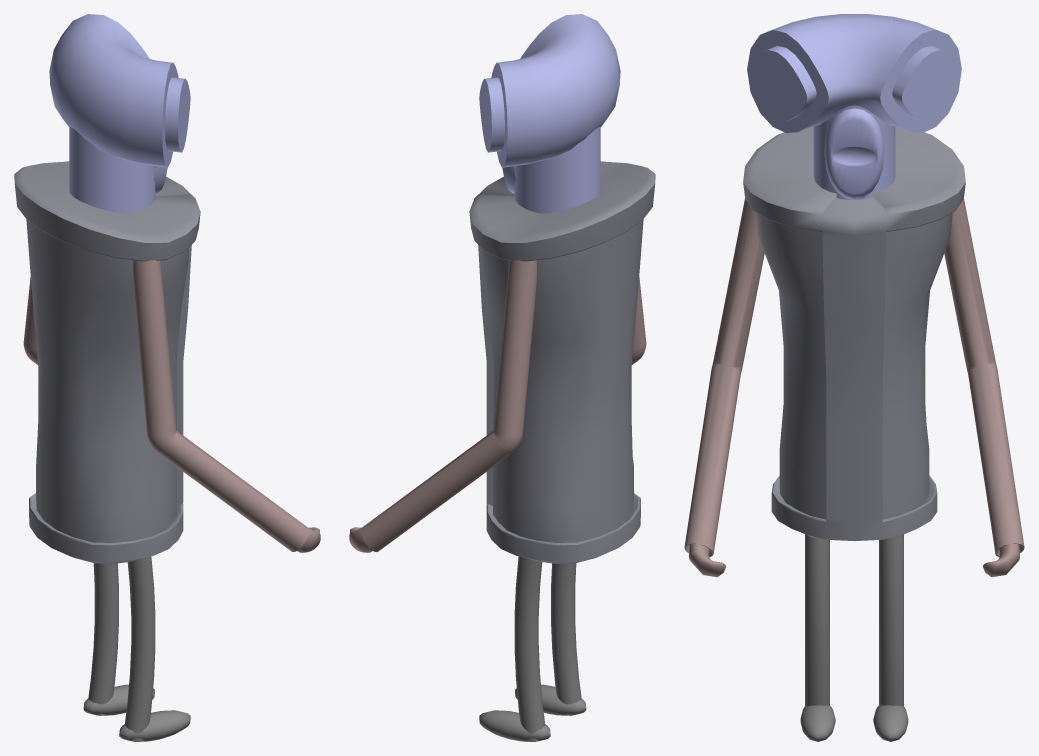
The model's file is UnShpwMore.fbx.
3 views of the same model, side by side, from view 1: azimuth 30°, elevation 25°; view 2: azimuth 150°, elevation 25°; view 3: azimuth 270°, elevation 25° (orthographic). The views are drawn at different scales.
Visible parts, largest first — view 1: pCylinder5, pCylinder10, polySurface6, polySurface3, polySurface2, polySurface5; view 2: pCylinder5, pCylinder10, polySurface5, polySurface2, polySurface3, polySurface6; view 3: pCylinder5, pCylinder10, polySurface6, polySurface5, polySurface2, polySurface3.
Part boxes in pixels (x1,y1,x2,y2): pCylinder5: (14, 161, 200, 563); pCylinder10: (49, 14, 190, 213); polySurface6: (133, 260, 320, 552); polySurface3: (119, 556, 190, 741); polySurface2: (83, 563, 154, 715); polySurface5: (23, 277, 37, 364); pCylinder5: (469, 161, 655, 563); pCylinder10: (479, 14, 620, 213); polySurface5: (349, 260, 536, 552); polySurface2: (479, 556, 550, 741); polySurface3: (515, 563, 586, 715); polySurface6: (632, 277, 646, 364); pCylinder5: (743, 126, 965, 541); pCylinder10: (747, 14, 961, 200); polySurface6: (684, 199, 764, 577); polySurface5: (944, 199, 1024, 577); polySurface2: (873, 534, 908, 741); polySurface3: (800, 534, 835, 741).
Bounding box in the file's own units: 373 × 1122 × 494.
